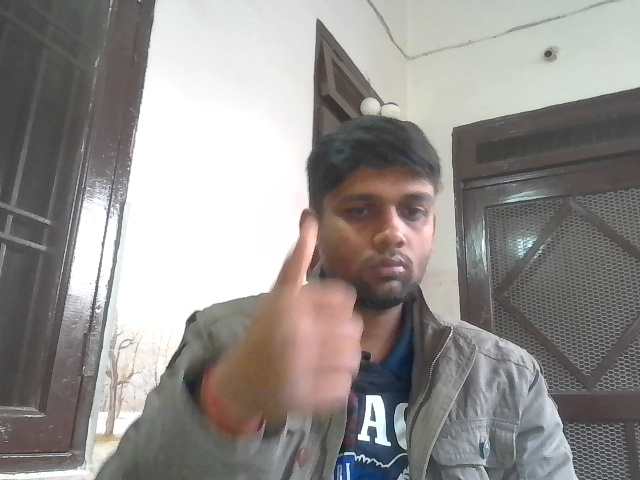BestOfLuck: (261, 218, 365, 415)
